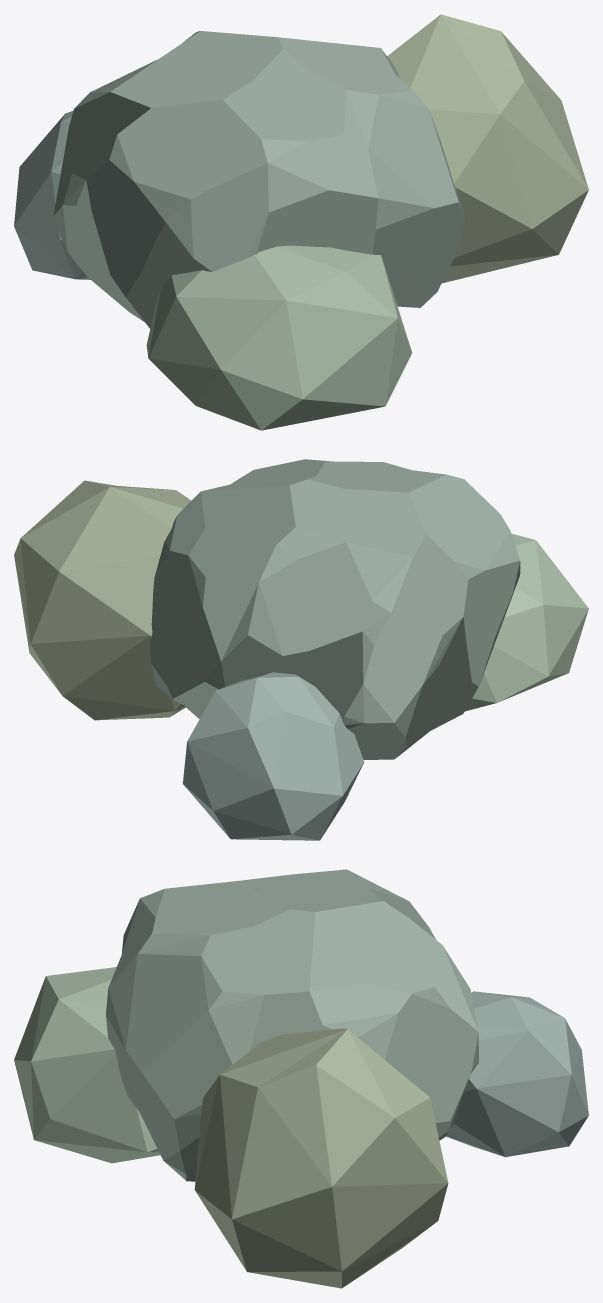
Rendered from 中石头2.fbx.
3 renders of one model, top to bottom at view 1: azimuth 30°, elevation 25°; view 2: azimuth 150°, elevation 25°; view 3: azimuth 270°, elevation 25°, orthographic. The views are drawn at different scales.
Visible parts, largest first — view 1: Cube.001; view 2: Cube.001; view 3: Cube.001.
Boxes of the visible parts, box(x1,y1,x2,y2) form: Cube.001: box(14, 14, 588, 430); Cube.001: box(14, 459, 588, 840); Cube.001: box(14, 869, 588, 1288).
Bounding box in the file's own units: 3.62 × 1.98 × 3.73.
